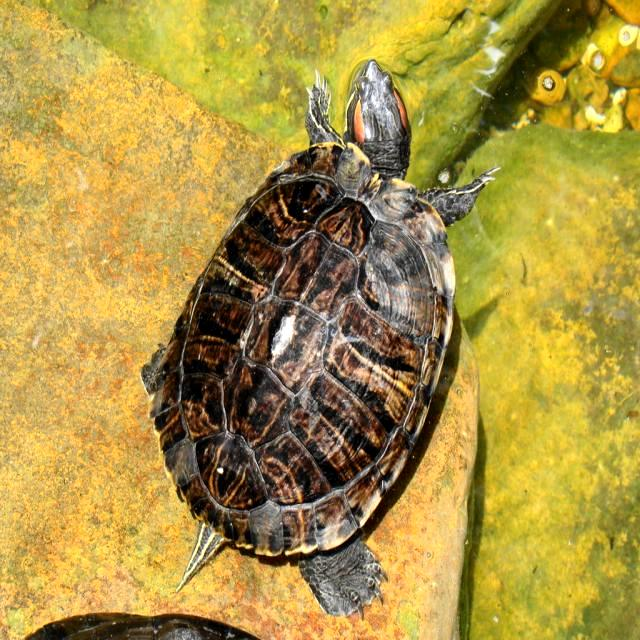Sea turtle: (141, 58, 501, 622)
